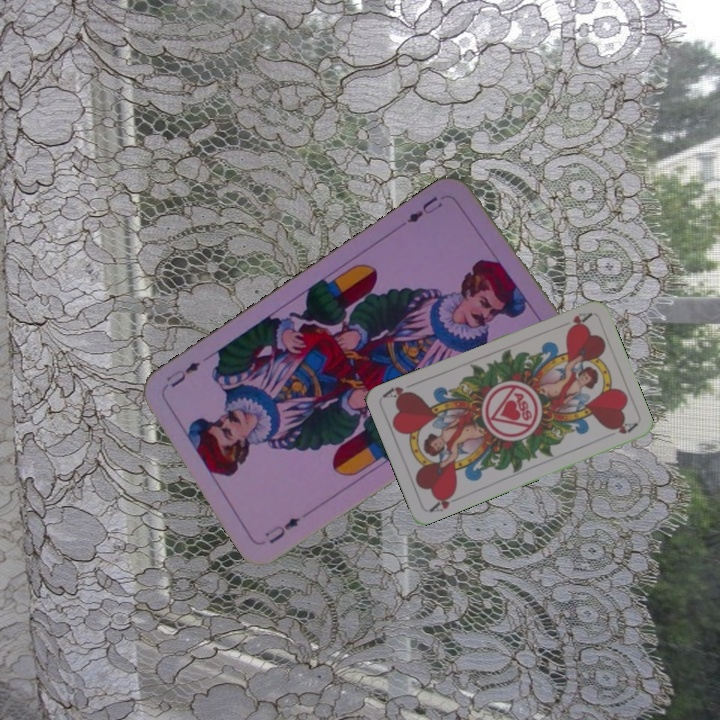EU: (403, 192, 446, 226), (260, 513, 303, 547)
HA: (425, 487, 464, 515), (564, 308, 594, 333)
